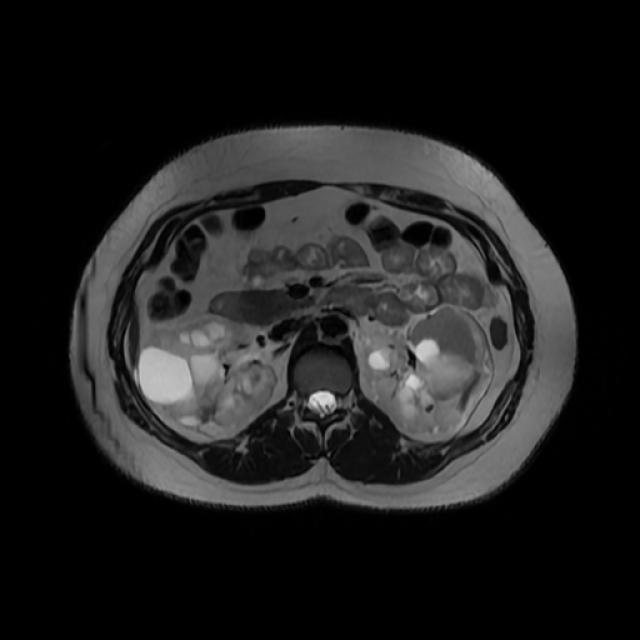sag: (134, 315, 276, 437)
sol: (356, 306, 485, 434)
